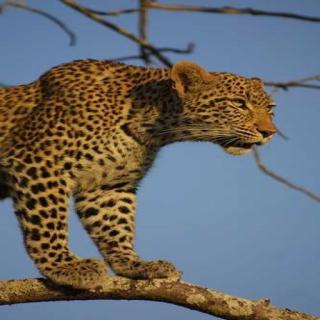Leopard: (13, 50, 320, 319)
